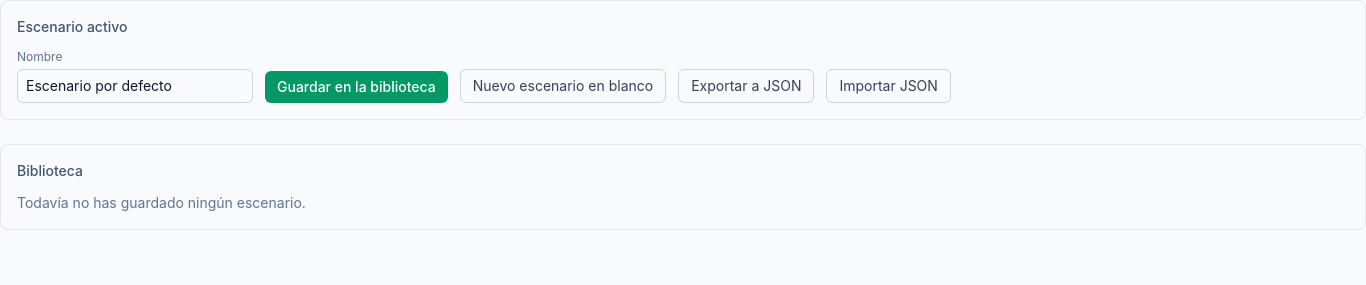
Scenario: ScenariosTab › borrar quita la entrada de la biblioteca
The width and height of the screenshot is (1366, 285).
What coordinates should you click on to do the following:
click the button "Guardar en la biblioteca"
I would click on:
 (356, 87)
Its box is [265,71,448,103].
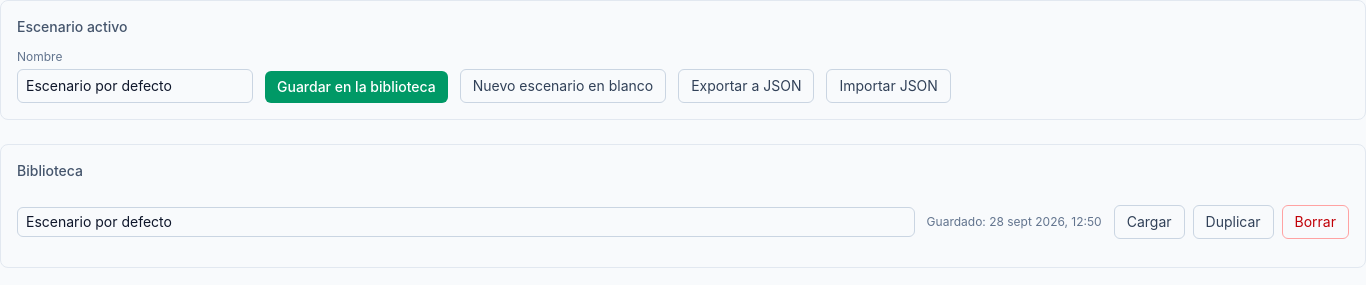
What coordinates should you click on to do the following:
click the button "Borrar"
I would click on:
 (1315, 222)
Its box is [1282,205,1349,239].
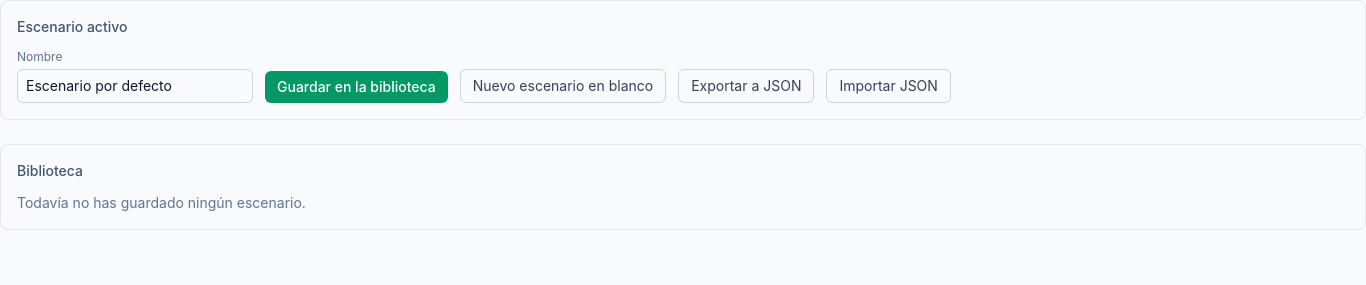
Expected: the text "Todavía no has guardado ningún escenario." is shown, [17,194,306,211]
